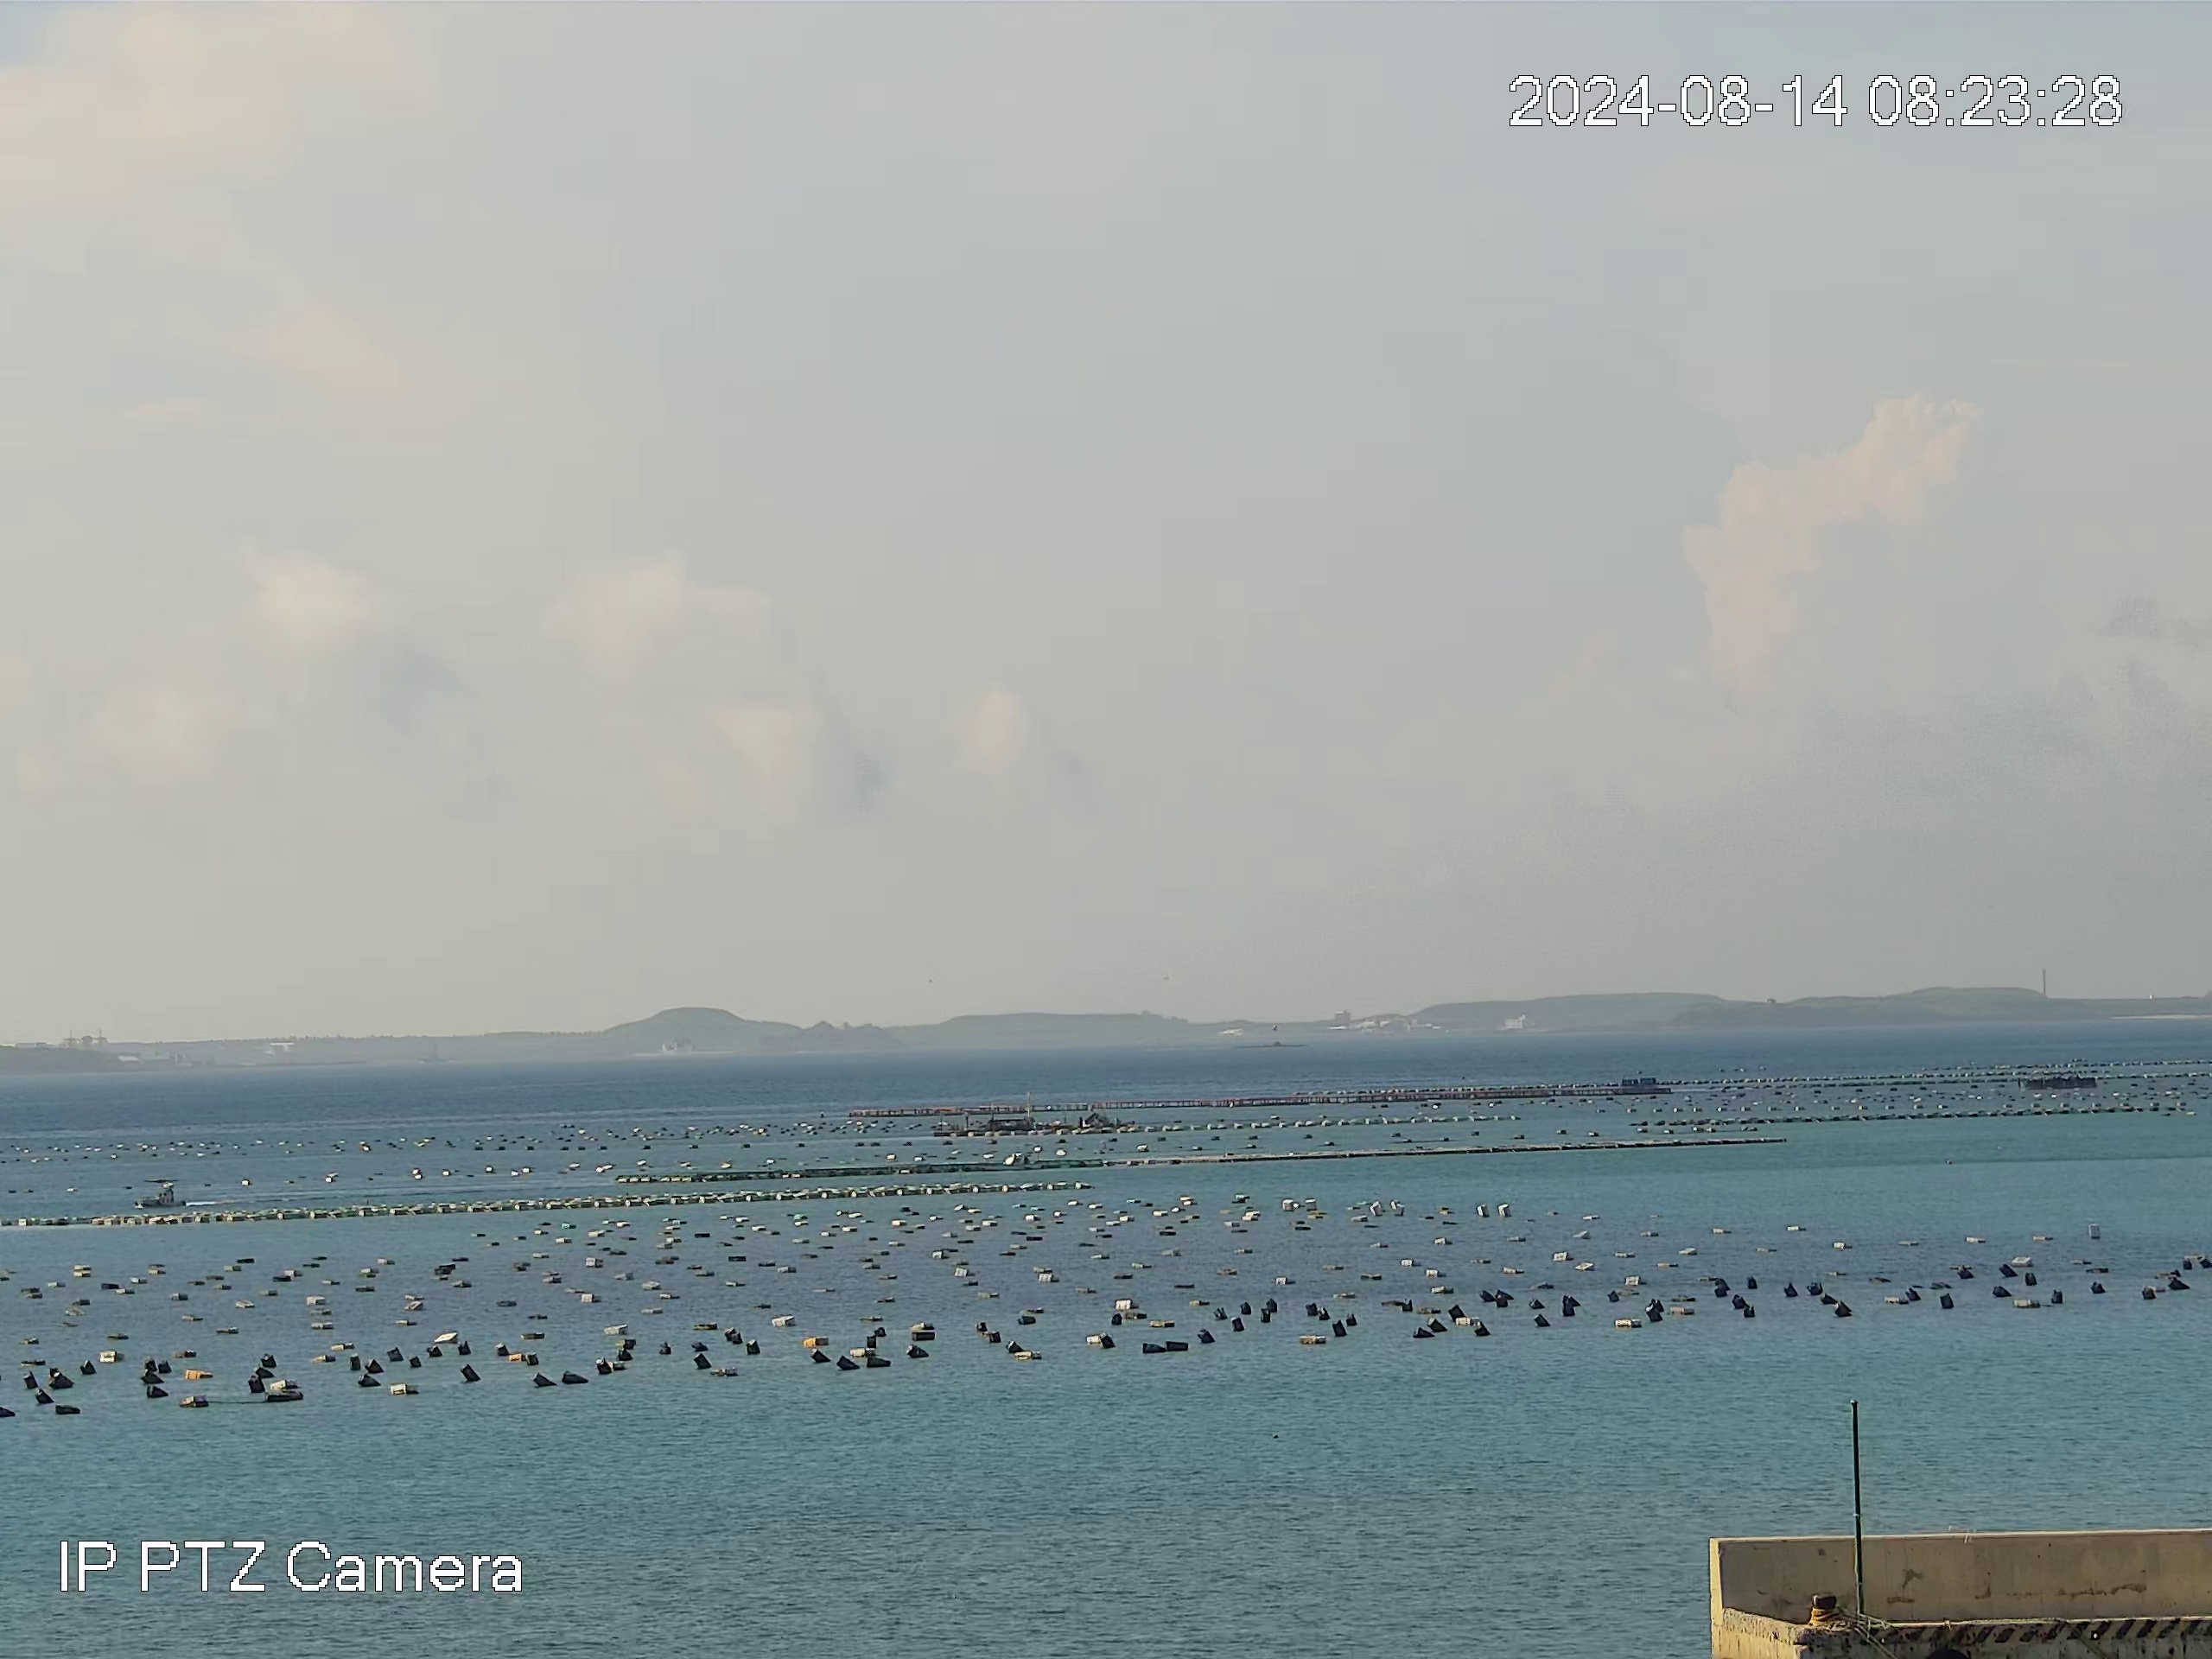boat: (2023, 1067, 2102, 1089)
